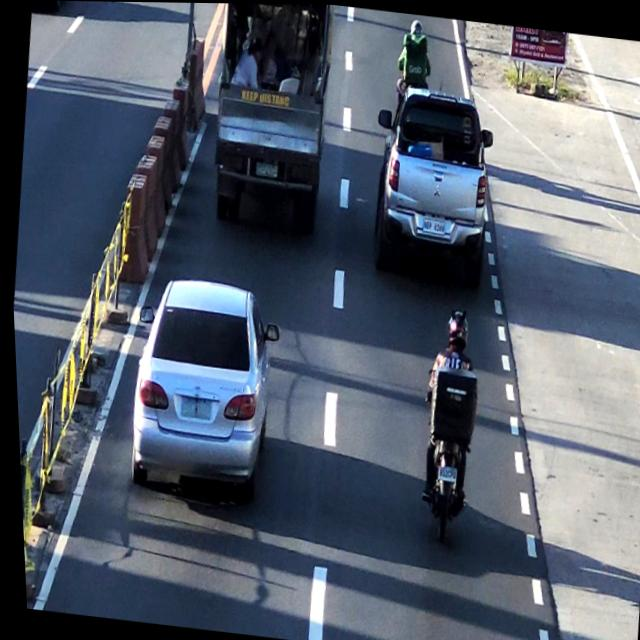Car: (120, 270, 281, 481), (366, 87, 506, 289)
License-Plate: (174, 393, 212, 420), (418, 213, 446, 237), (252, 158, 280, 179), (430, 463, 454, 481)
Motorcycle: (406, 315, 482, 543), (393, 16, 436, 87)
Truck: (201, 2, 337, 218)
